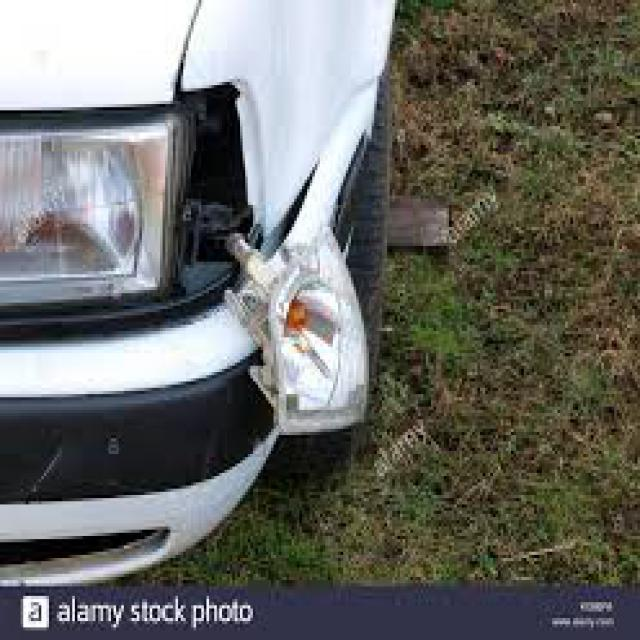Signlight-Damage: (204, 208, 377, 454)
